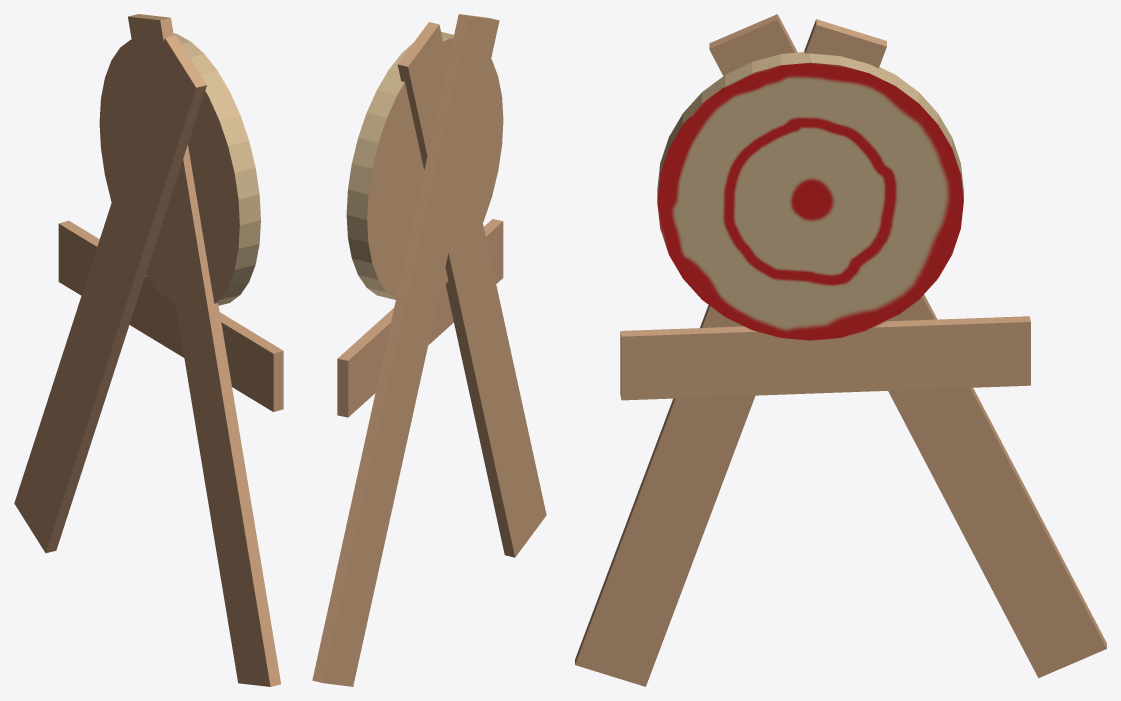
Rendered from target.gltf.
3 views of the same model, side by side, from view 1: azimuth 30°, elevation 25°; view 2: azimuth 150°, elevation 25°; view 3: azimuth 270°, elevation 25° (orthographic). The views are drawn at different scales.
Visible parts, largest first — view 1: Cube.010; view 2: Cube.010; view 3: Cube.010.
Part boxes in pixels (x1=…): Cube.010: x1=14, y1=14, x2=283, y2=686; Cube.010: x1=312, y1=14, x2=546, y2=686; Cube.010: x1=575, y1=14, x2=1106, y2=686.
Bounding box in the file's own units: 0.0737 × 0.9015 × 0.6563.
Materials: 1 (1 with a texture image).
